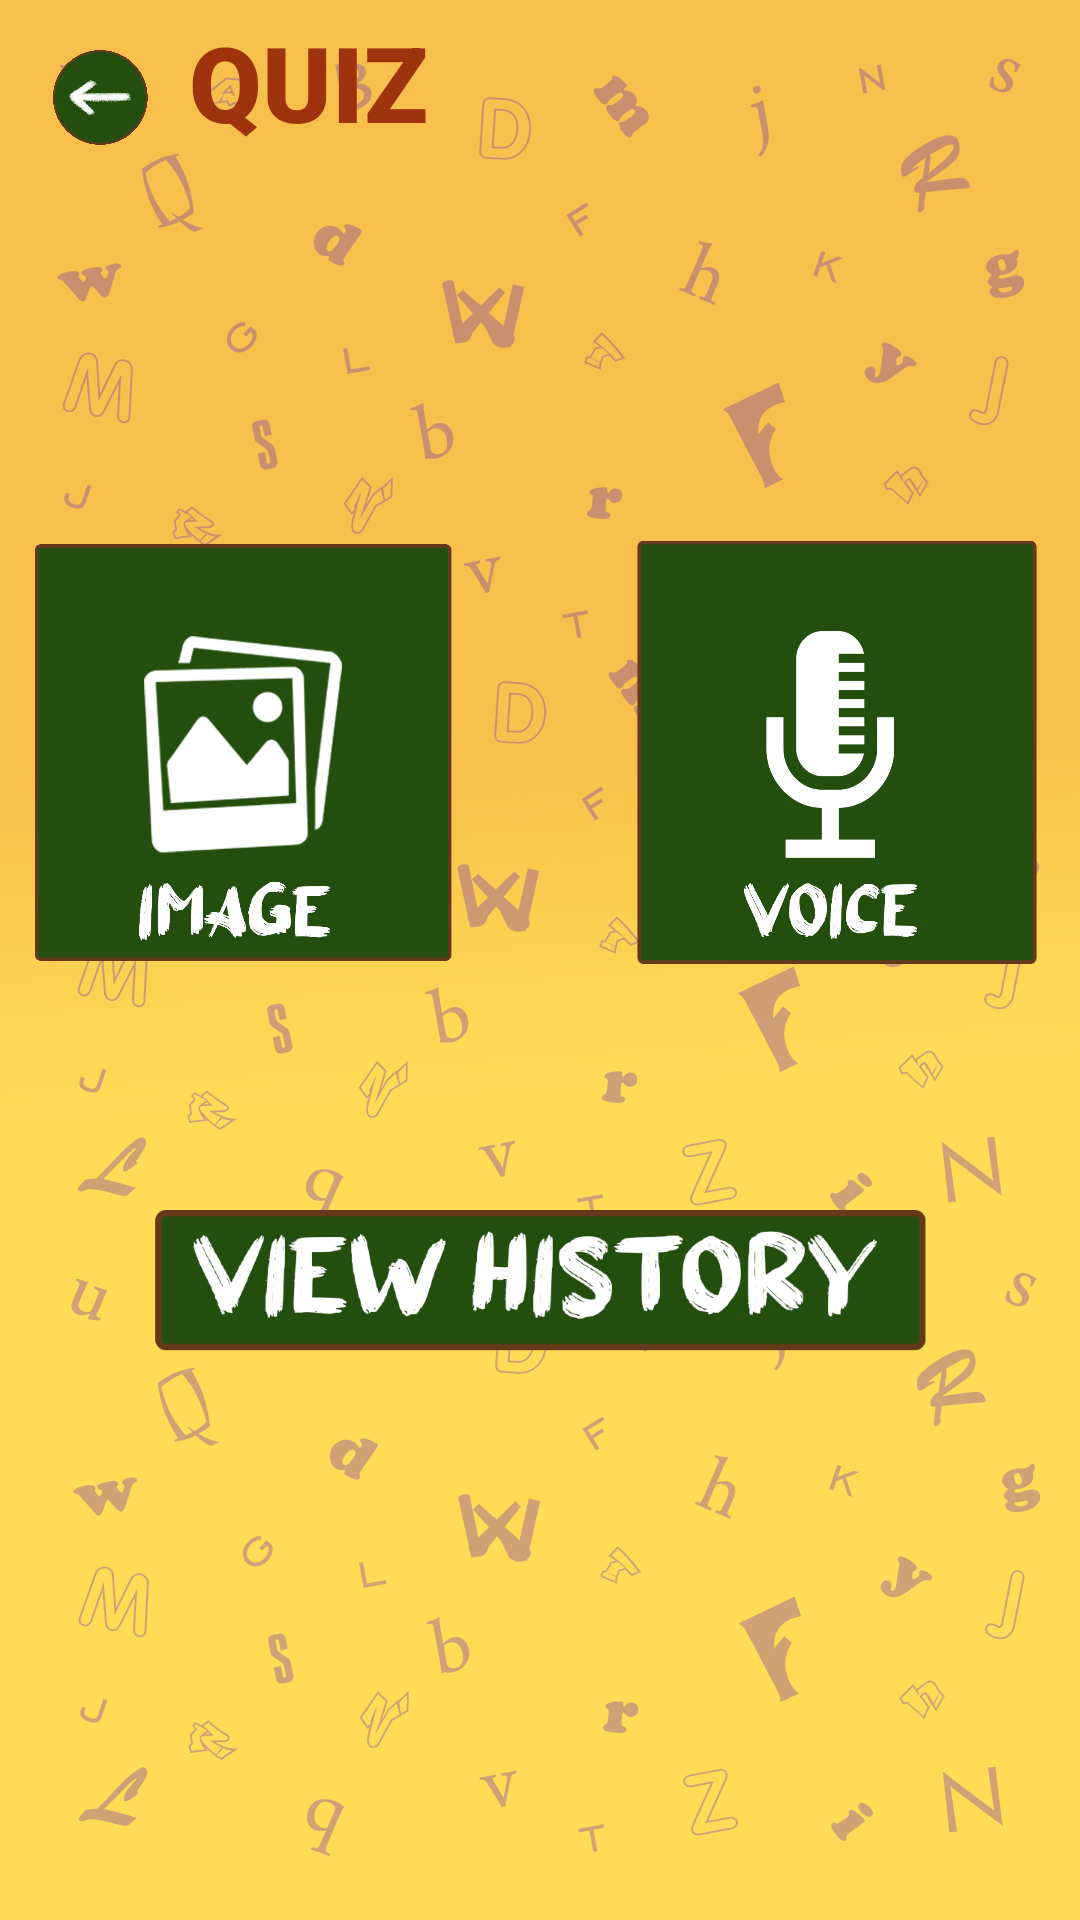

Where icons sit on this 1080x1920 app screen, as [x1=x1, y1=y1, x2=x2, y2=y2]:
back: [x1=53, y1=50, x2=148, y2=145]
